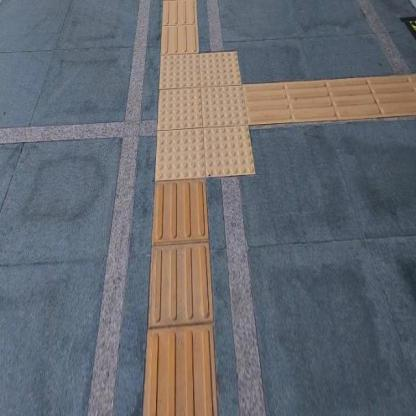podotacti: (136, 31, 273, 200), (142, 183, 217, 416), (251, 71, 415, 126), (159, 0, 200, 52)
